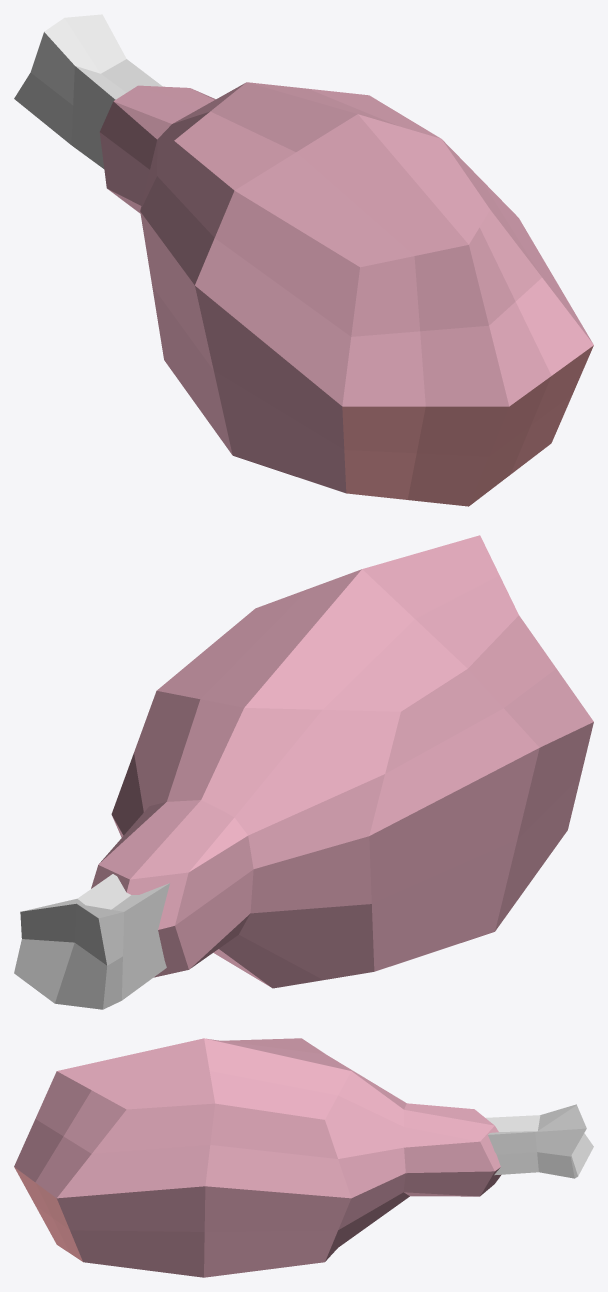
File: chickenWing.fbx
The picture shows the model from 3 angles, top to bottom: view 1: azimuth 30°, elevation 25°; view 2: azimuth 150°, elevation 25°; view 3: azimuth 270°, elevation 25°; orthographic projection. The views are drawn at different scales.
Parts seen in each view (by area): view 1: Cube, Cube.001; view 2: Cube, Cube.001; view 3: Cube, Cube.001.
Boxes of the visible parts, <box> form: Cube: <box>99,82,593,506</box>; Cube.001: <box>14,14,162,168</box>; Cube: <box>91,535,593,988</box>; Cube.001: <box>14,874,169,1009</box>; Cube: <box>14,1038,501,1277</box>; Cube.001: <box>486,1104,593,1178</box>.
Bounding box in the file's own units: 159 × 168 × 369.
